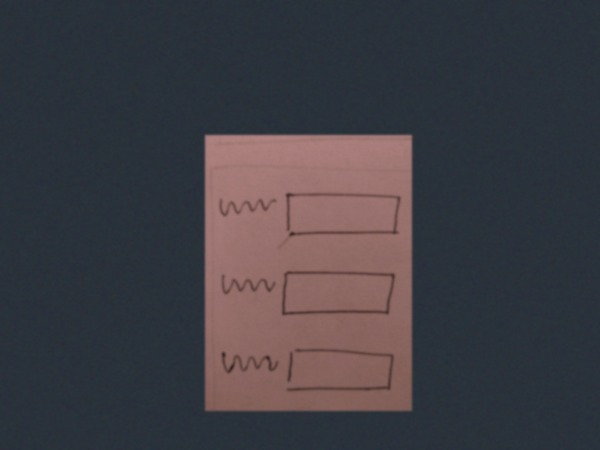text: (219, 348, 279, 380), (219, 270, 276, 303), (216, 193, 277, 218)
text_input: (282, 186, 404, 240), (284, 344, 396, 397), (280, 269, 399, 318)
